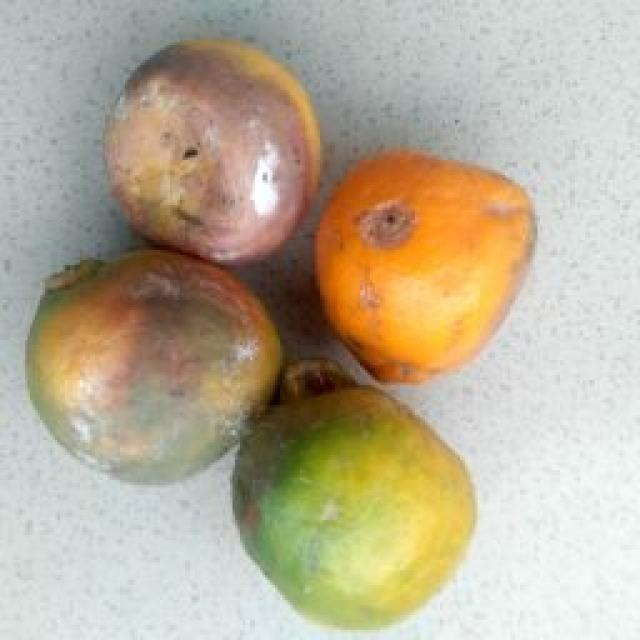Bad_Orange: (26, 250, 281, 482), (316, 151, 535, 382), (108, 40, 320, 264)
